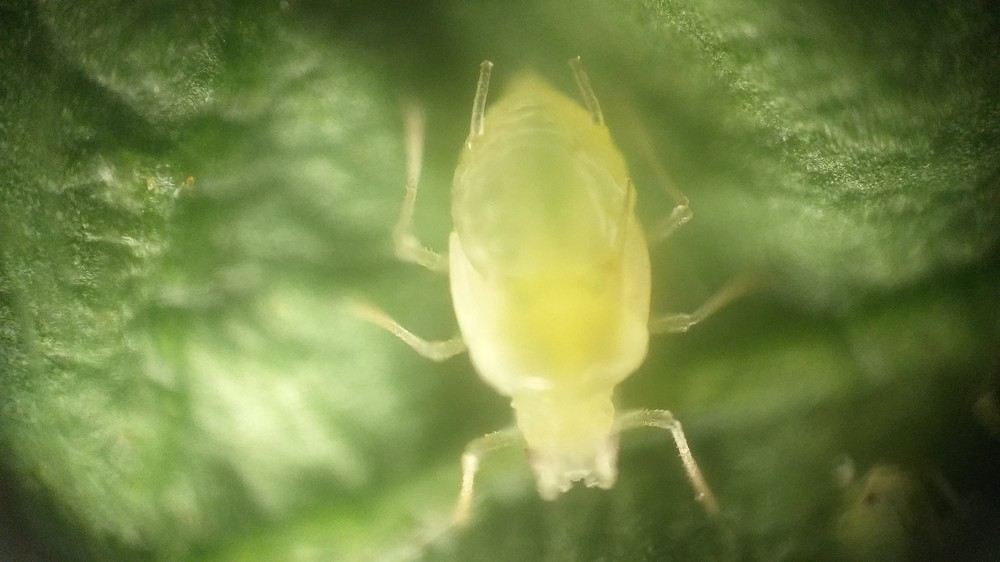Pulgon: (338, 39, 773, 550)
